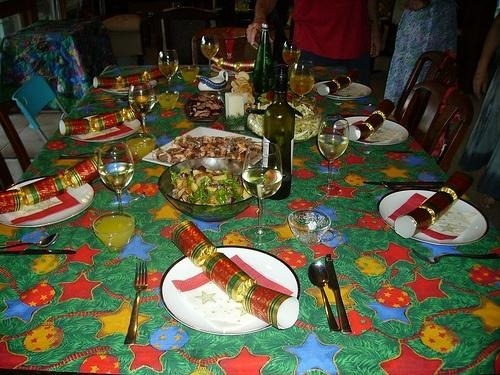bottle: (261, 64, 295, 201), (253, 23, 276, 95)
chair: (394, 85, 478, 174), (394, 51, 462, 134), (12, 74, 72, 142)
diningtable: (1, 65, 500, 375)
